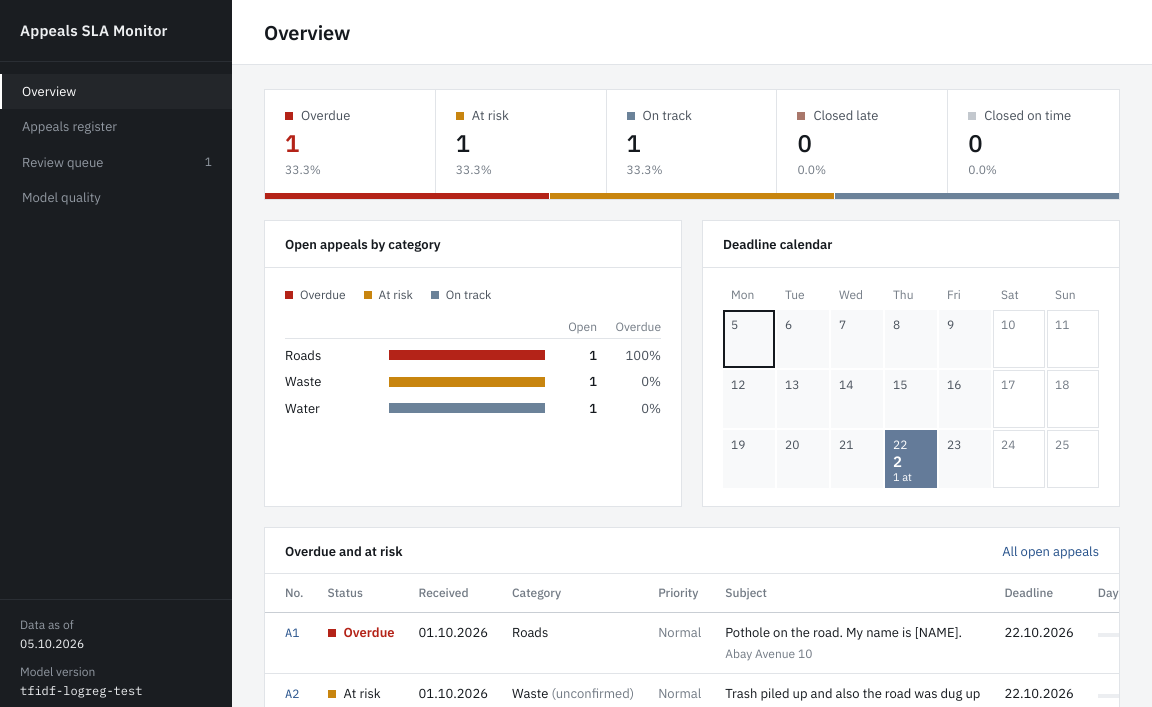
Test: App › lets an operator correct a label from the review queue
The image size is (1152, 707).
Click the link "Review queue 1" at (63, 162), box [22,154,212,170]
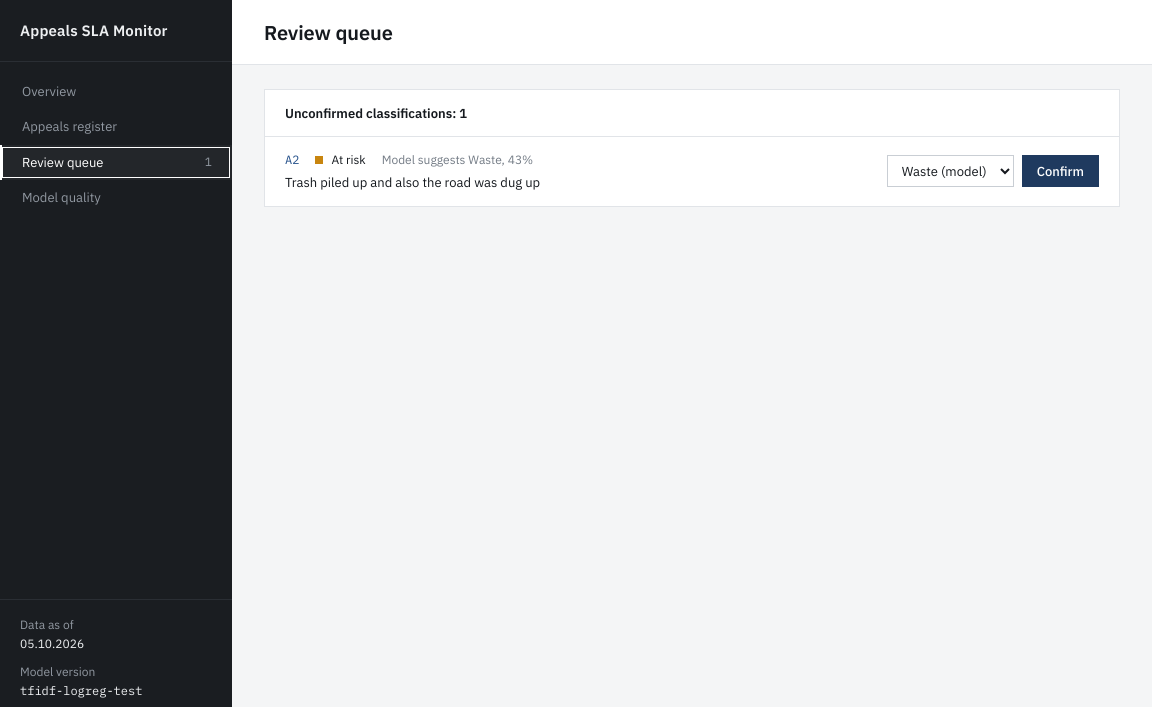
Select "Roads" in the dropdown named "Category for A2" at (950, 171), box [887,155,1014,187]
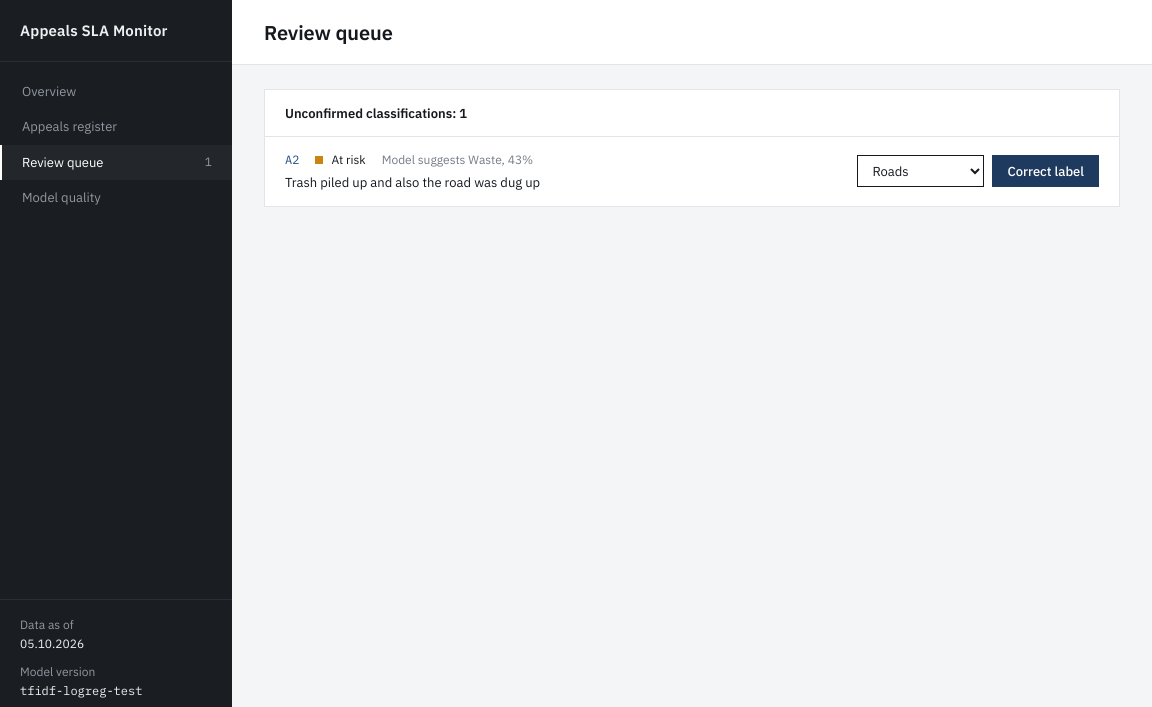
Click the button "Correct label" at (1046, 171), box [992,155,1099,187]
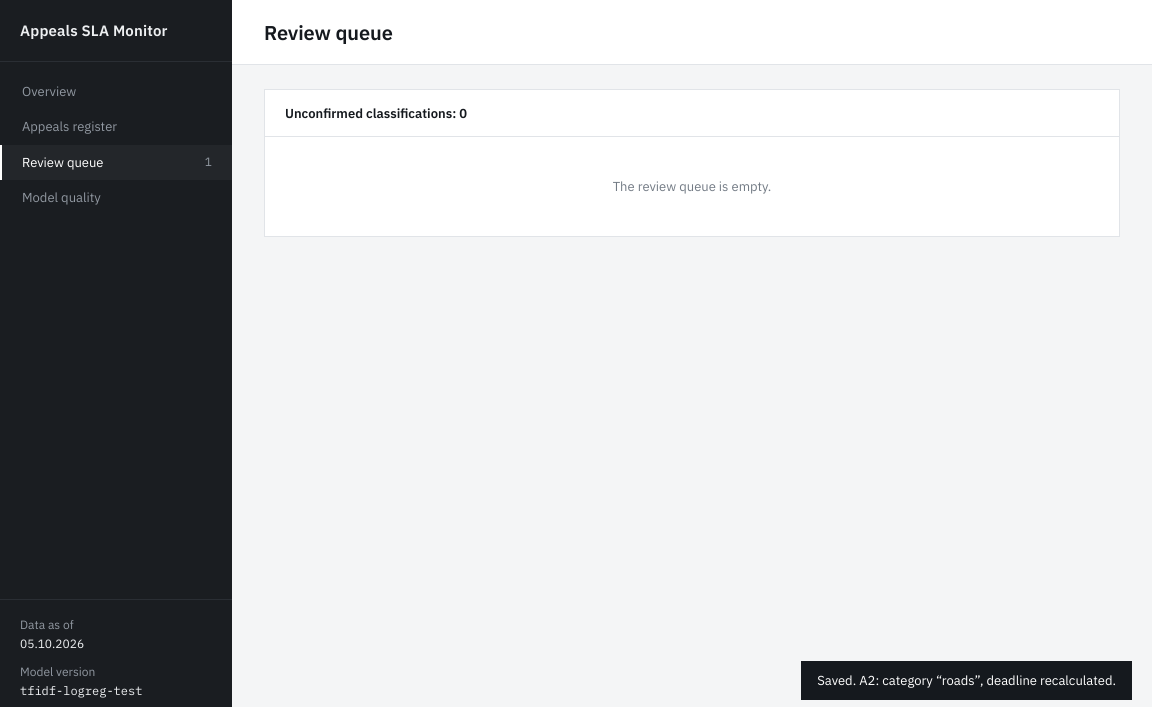
Check: the message shows "Saved. A2", box [817,672,1116,688]
